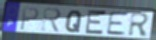E: (84, 8, 108, 37), (105, 12, 130, 36)
P: (19, 7, 41, 31)
Q: (65, 10, 84, 34)
R: (40, 7, 63, 34), (127, 12, 151, 37)
